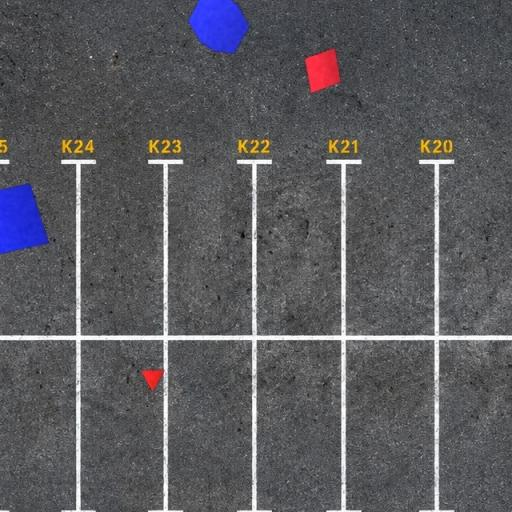BLUE_SQUARE: (0, 182, 50, 258)
RED_SQUARE: (304, 48, 342, 94)
